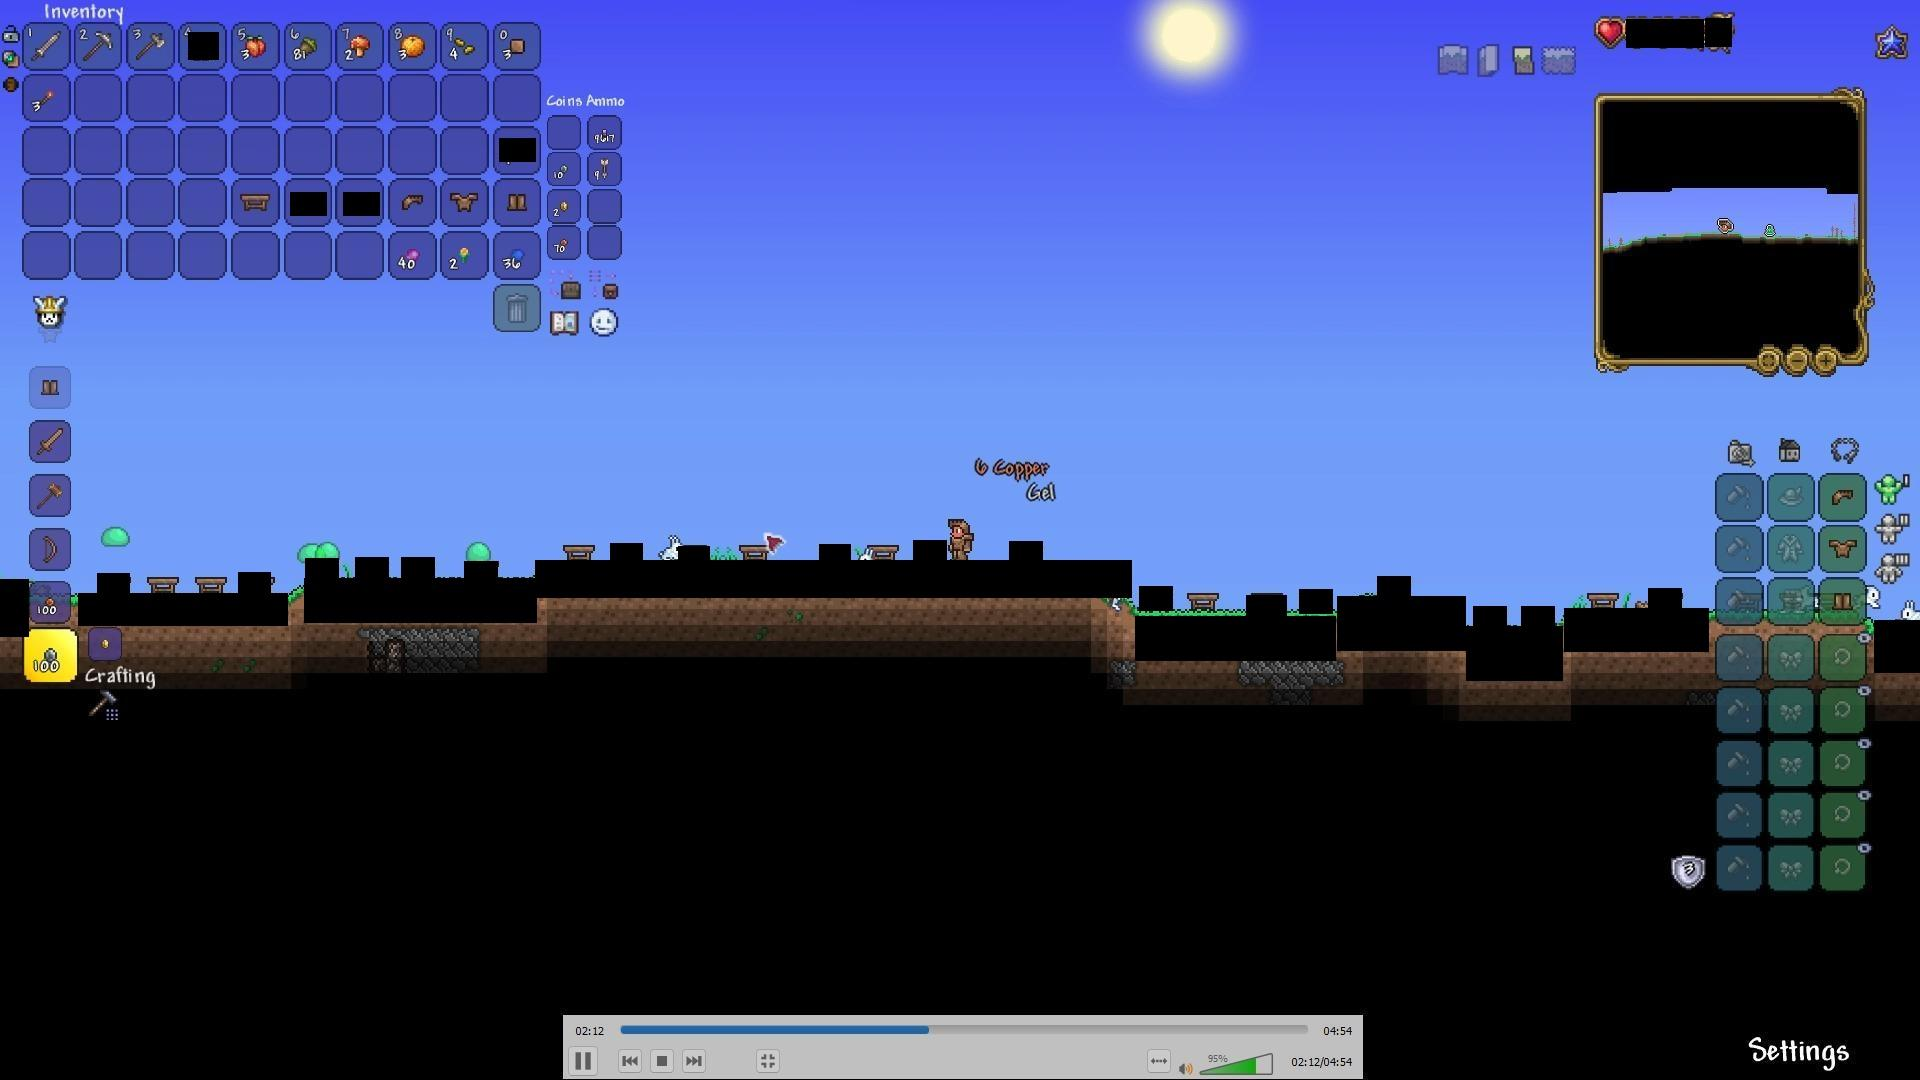breastplate: (1830, 537, 1859, 558), (448, 190, 477, 210)
heart: (1598, 16, 1626, 44)
helmet: (400, 190, 429, 215), (1829, 484, 1857, 509)
legs: (37, 375, 62, 402), (505, 186, 530, 214), (1832, 588, 1854, 618)
slime: (314, 533, 347, 560), (99, 520, 131, 547), (464, 535, 496, 563), (294, 534, 314, 562)
workbench: (560, 545, 597, 568), (1584, 592, 1622, 615), (237, 193, 274, 215), (866, 539, 899, 564), (1183, 591, 1217, 615), (194, 571, 227, 595), (146, 572, 179, 596), (738, 545, 766, 564)
